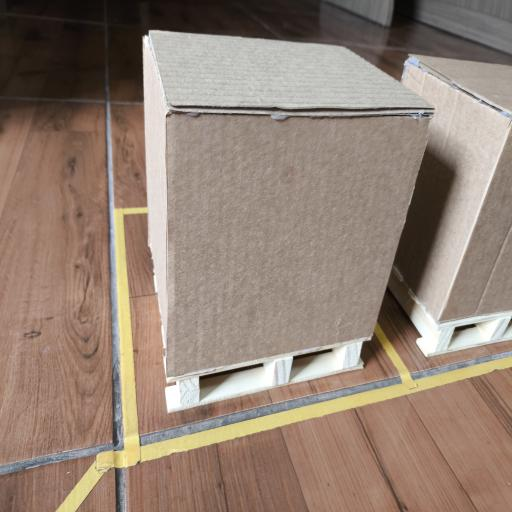pallet: (166, 338, 369, 412), (389, 267, 511, 356)
